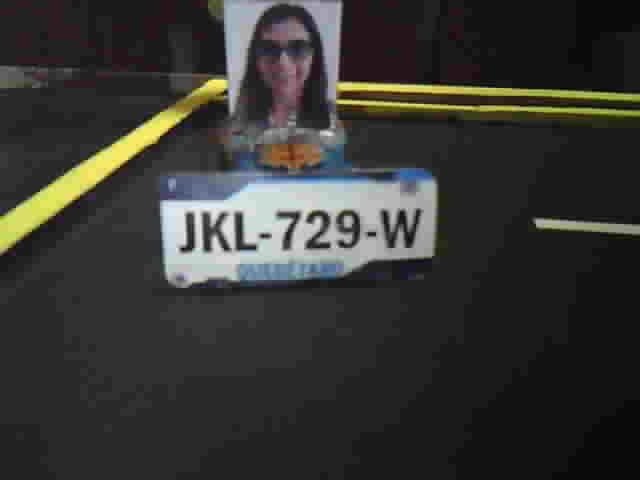PLACA: (157, 165, 441, 292)
ROSTRO: (229, 1, 335, 133)
